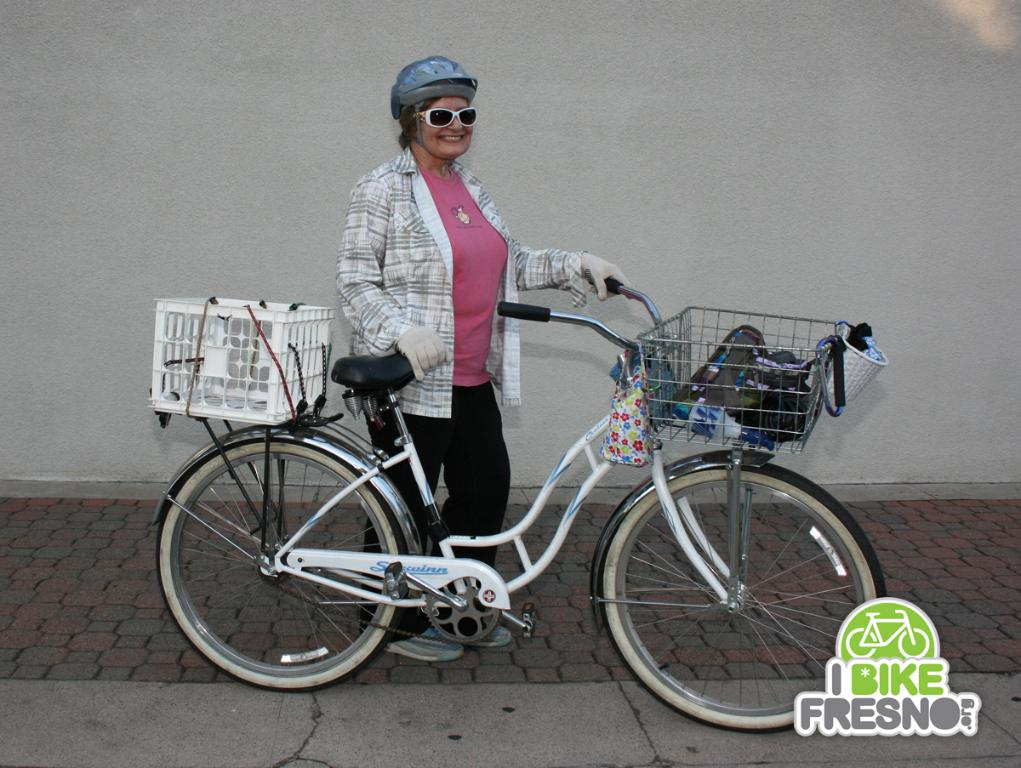Bike: (139, 290, 899, 739)
